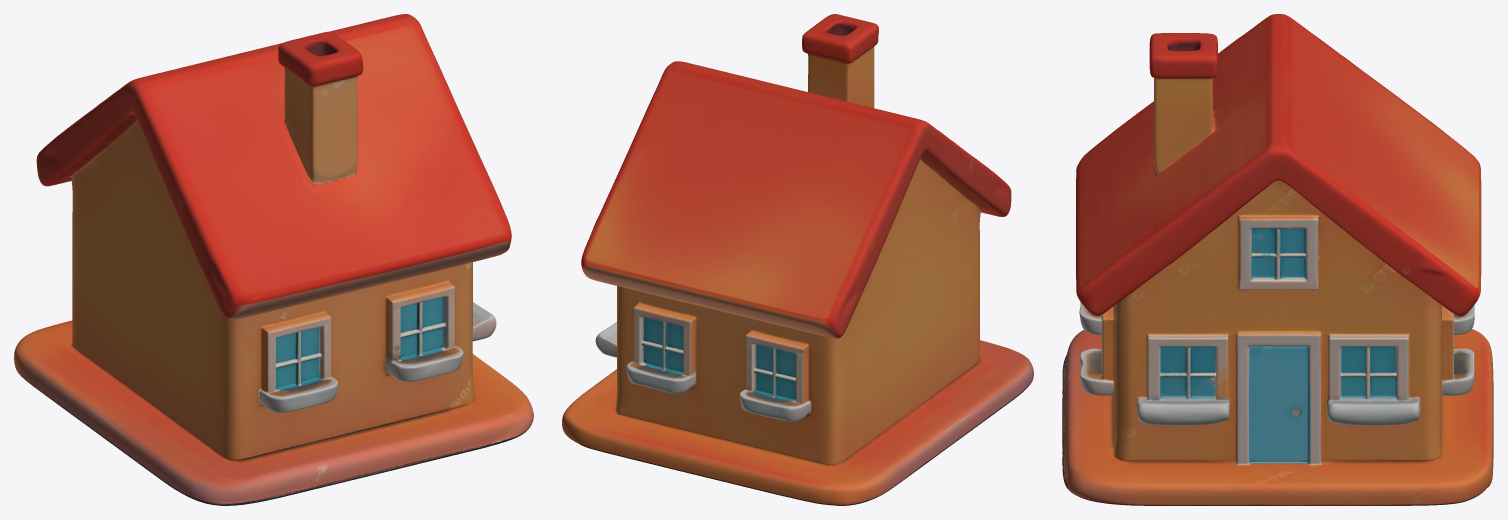
File: tripo_pbr_model_adbf539a-dce2-4d46-9601-9d5f74cb09c3.glb
The picture shows the model from 3 angles, left to right: view 1: azimuth 30°, elevation 25°; view 2: azimuth 150°, elevation 25°; view 3: azimuth 270°, elevation 25°; orthographic projection. The views are drawn at different scales.
Parts seen in each view (by area): view 1: tripo_node_adbf539a-dce2-4d46-9601-9d5f74cb09c3; view 2: tripo_node_adbf539a-dce2-4d46-9601-9d5f74cb09c3; view 3: tripo_node_adbf539a-dce2-4d46-9601-9d5f74cb09c3.
Boxes of the visible parts, x1,y1,x2,y2 form: tripo_node_adbf539a-dce2-4d46-9601-9d5f74cb09c3: (14, 14, 533, 505); tripo_node_adbf539a-dce2-4d46-9601-9d5f74cb09c3: (562, 14, 1033, 505); tripo_node_adbf539a-dce2-4d46-9601-9d5f74cb09c3: (1062, 14, 1493, 505).
Bounding box in the file's own units: 0.9256 × 0.9683 × 1.
Materials: 1 (1 with a texture image).
